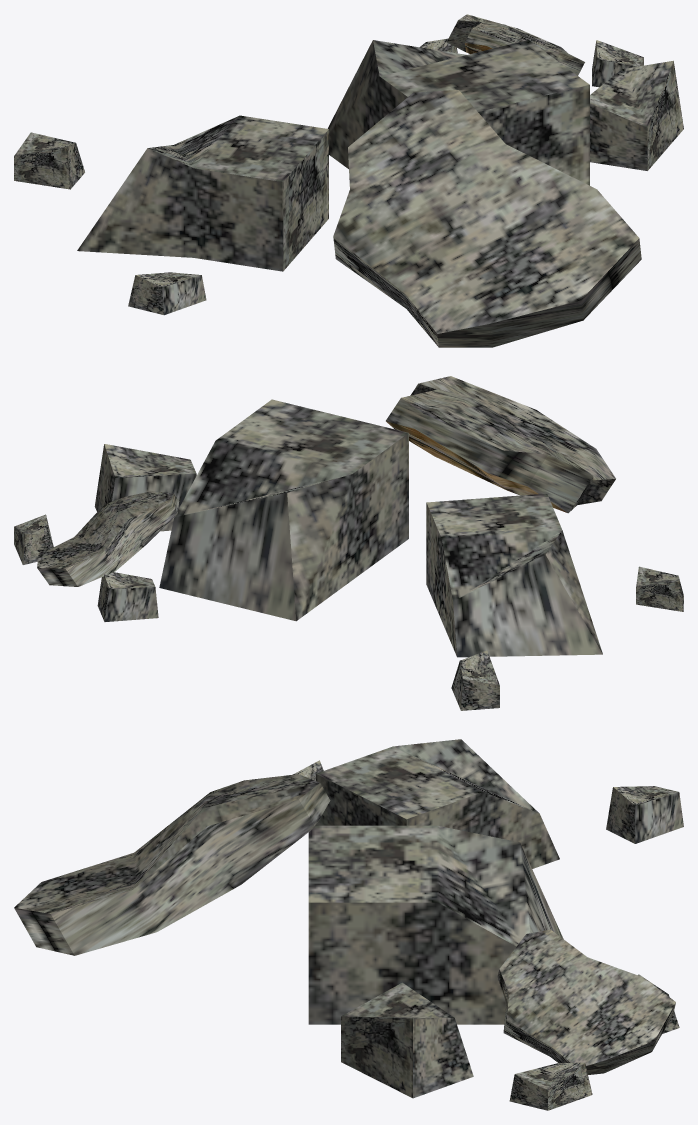
Rendered from M2_Rubble_03.glb.
The picture shows the model from 3 angles, top to bottom: view 1: azimuth 30°, elevation 25°; view 2: azimuth 150°, elevation 25°; view 3: azimuth 270°, elevation 25°; orthographic projection. The views are drawn at different scales.
Visible parts, largest first — view 1: M2_RUBBLE_03; view 2: M2_RUBBLE_03; view 3: M2_RUBBLE_03.
Boxes of the visible parts, x1=… form: M2_RUBBLE_03: x1=14, y1=14, x2=683, y2=347; M2_RUBBLE_03: x1=14, y1=376, x2=683, y2=710; M2_RUBBLE_03: x1=14, y1=739, x2=683, y2=1110.
Size of the model in its own units: 1.64 by 0.4 by 1.44.
2 materials, 2 textured.
